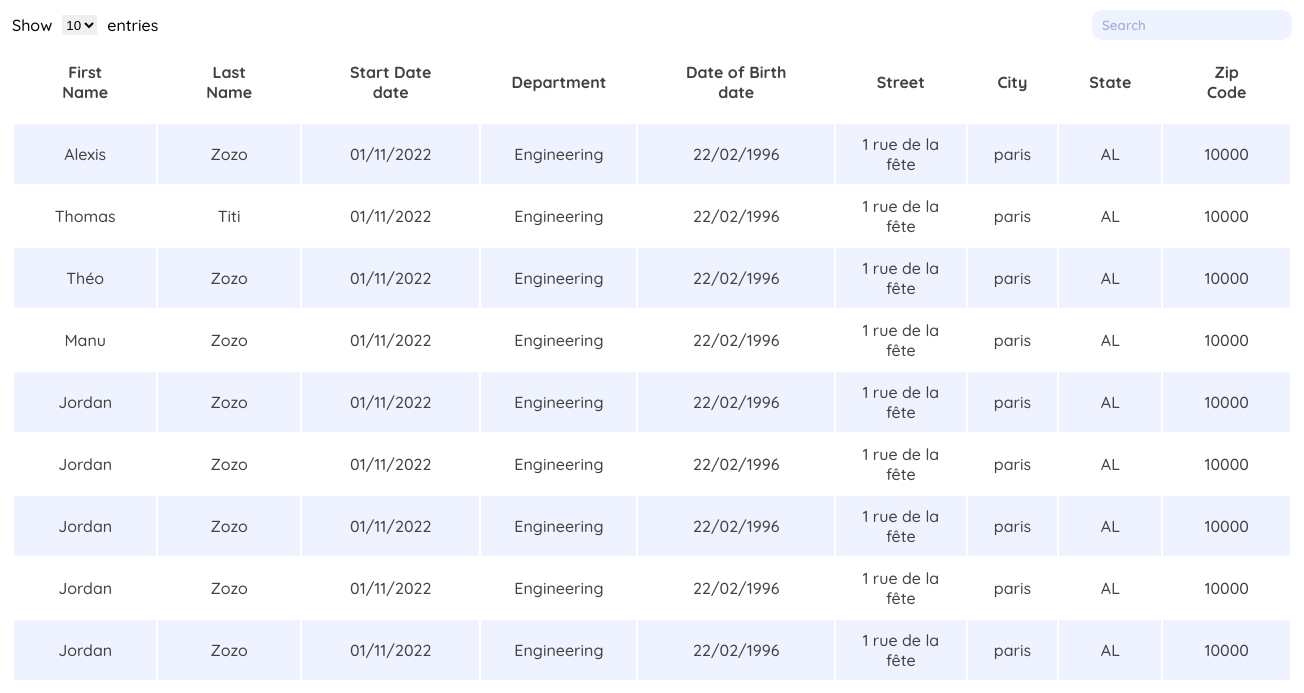
search bar find nobody
The width and height of the screenshot is (1304, 693).
Type "Lucie" into the search field with test id "inputTable".
click(1192, 25); type("Lucie")  # box 1092,10 -> 1292,40
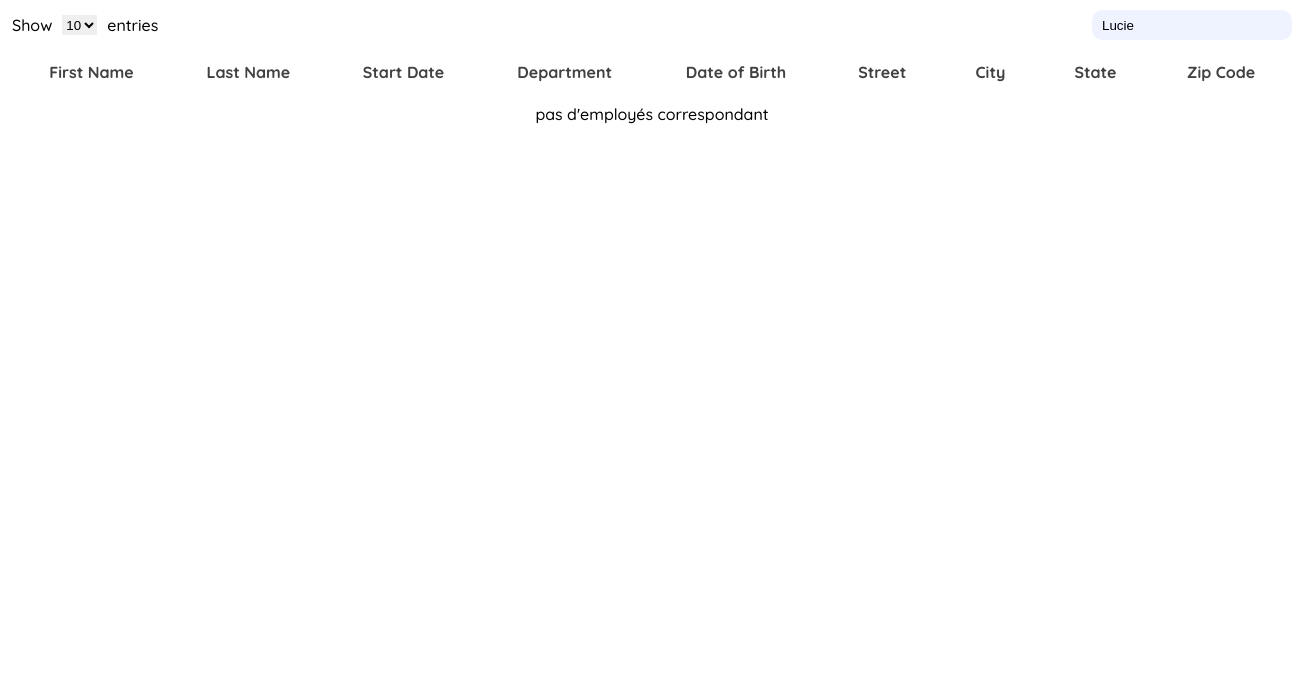
Check: the element with test id "table" shows "pas d'employés correspondant", box 535,104 -> 768,124
